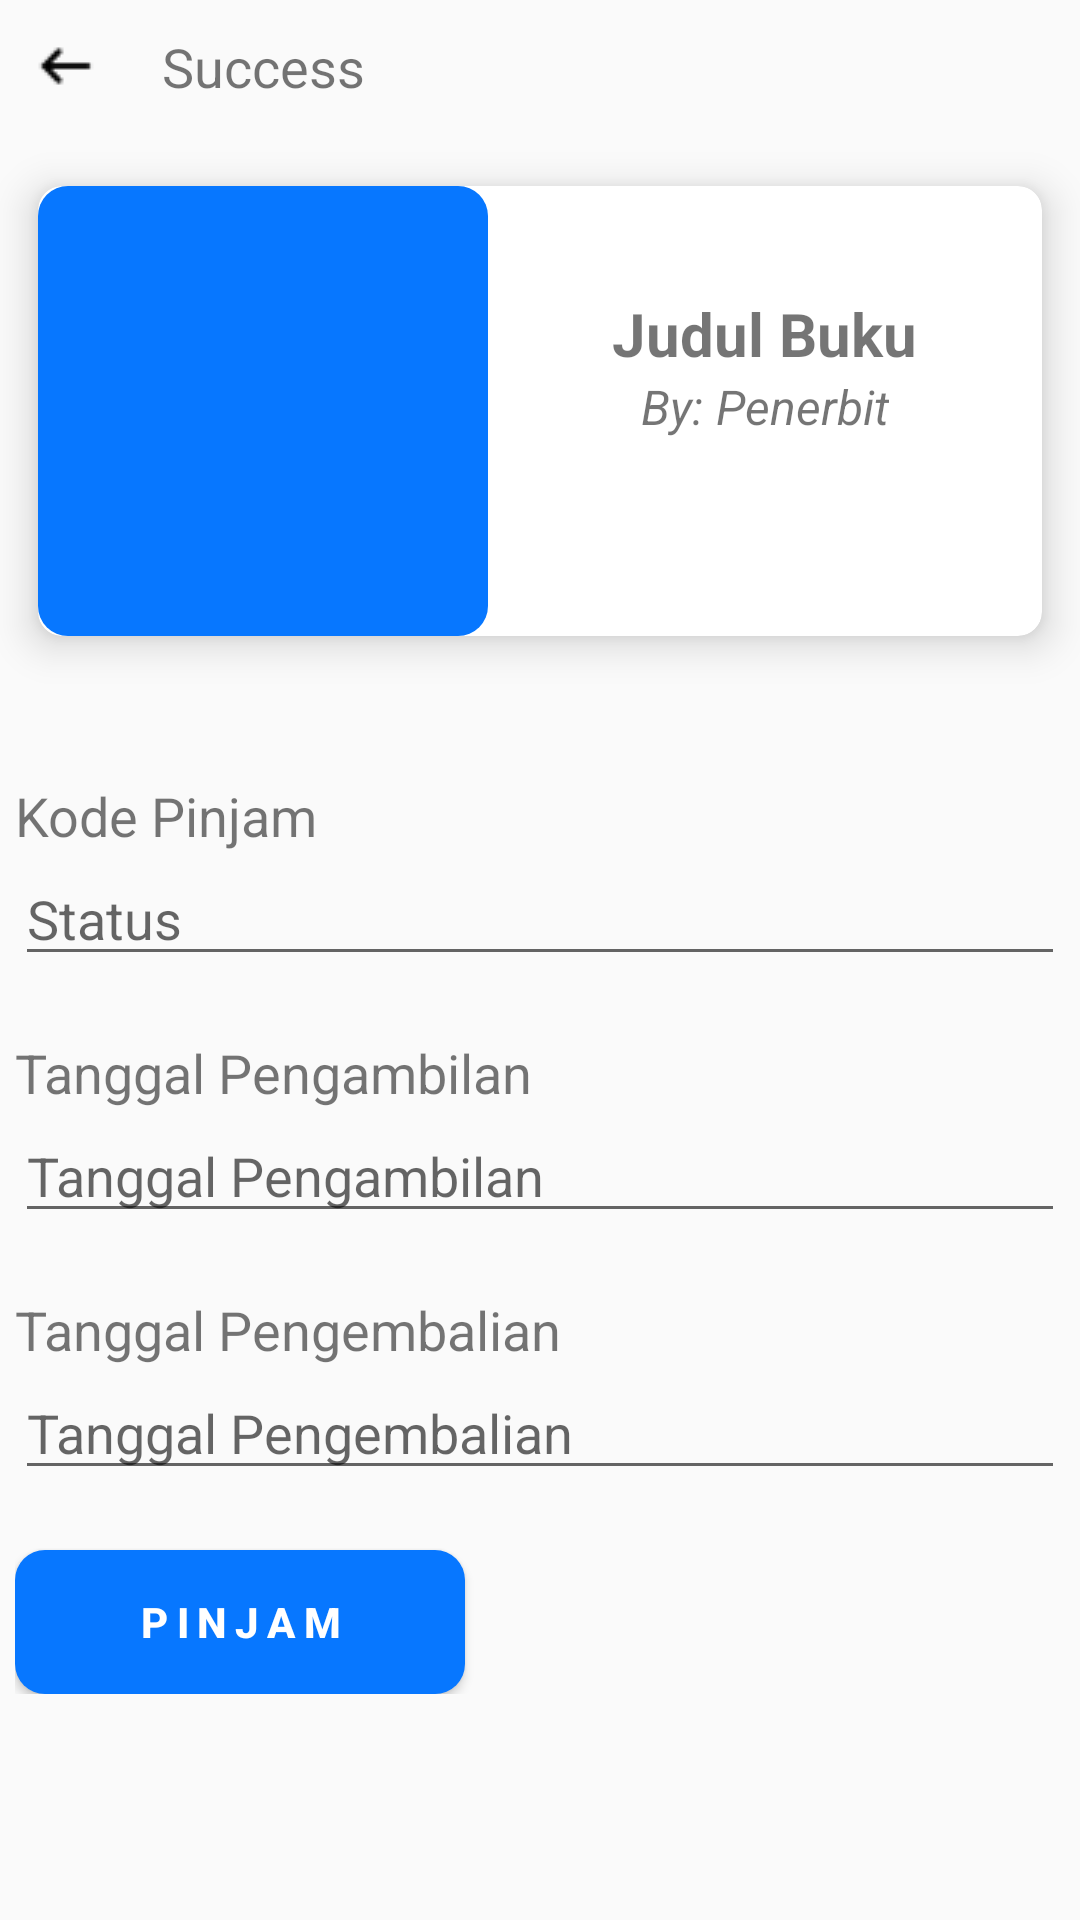

Named icons in this screenshot (1080x1920) and their bounding boxes, (x1, y1, x2, y2):
arrow: (40, 47, 91, 85)
